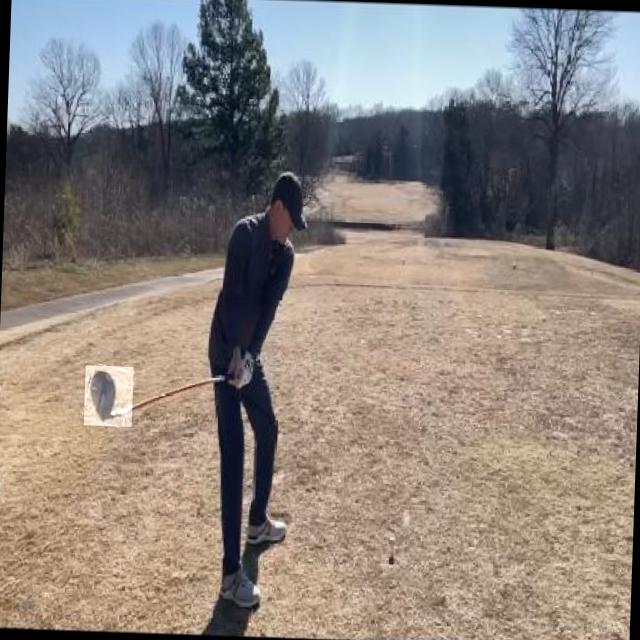club head: (83, 365, 133, 426)
